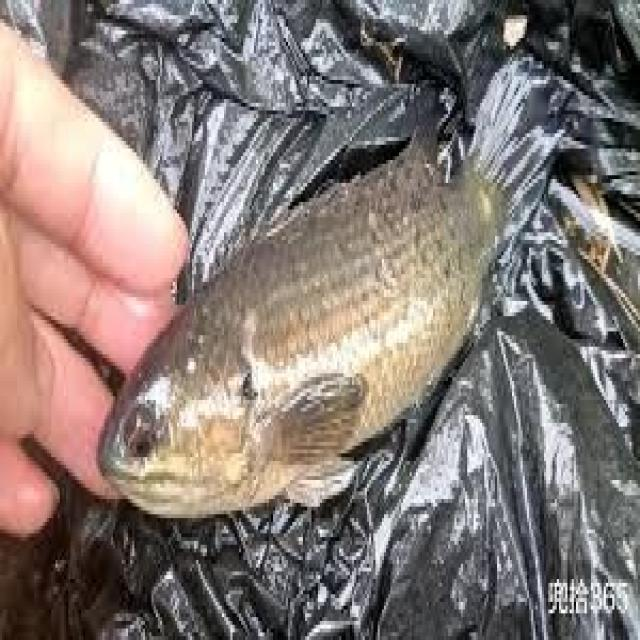Climbing-Perch: (86, 99, 589, 570)
